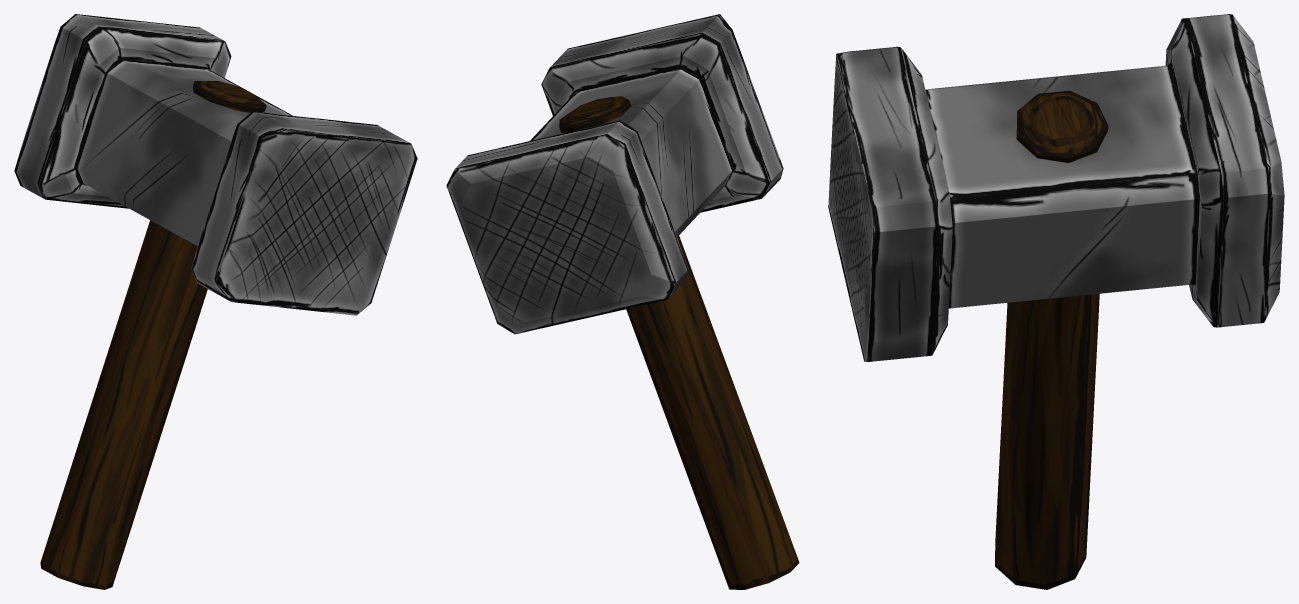
The model's file is HamerImport.FBX.
The picture shows the model from 3 angles, left to right: view 1: azimuth 30°, elevation 25°; view 2: azimuth 150°, elevation 25°; view 3: azimuth 270°, elevation 25°; orthographic projection. The views are drawn at different scales.
Visible parts, largest first — view 1: Hamer001; view 2: Hamer001; view 3: Hamer001.
Boxes of the visible parts, bbox=[...] form: Hamer001: bbox=[14, 14, 417, 589]; Hamer001: bbox=[446, 14, 799, 589]; Hamer001: bbox=[828, 14, 1284, 589].
Bounding box in the file's own units: 5.37 × 5.72 × 8.37.
